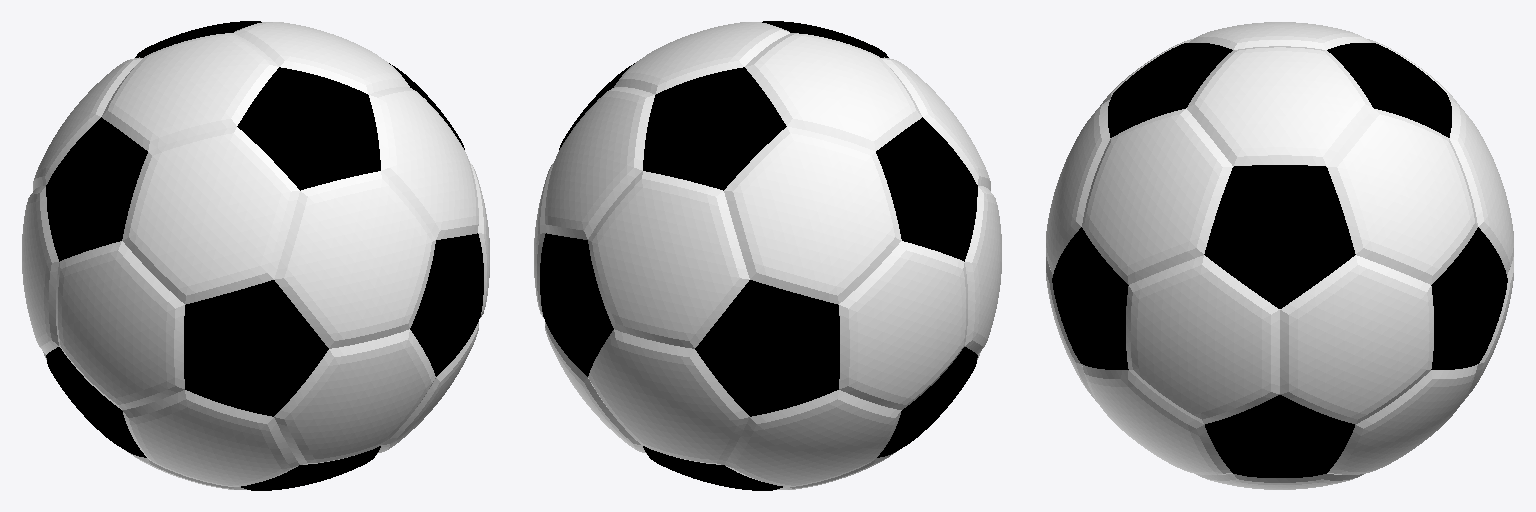
The picture shows the model from 3 angles: view 1: azimuth 30°, elevation 25°; view 2: azimuth 150°, elevation 25°; view 3: azimuth 270°, elevation 25°; orthographic projection.
Visible parts, largest first — view 1: soccer_ball_Solid.003; view 2: soccer_ball_Solid.003; view 3: soccer_ball_Solid.003.
Boxes of the visible parts, x1=… form: soccer_ball_Solid.003: x1=22, y1=21, x2=489, y2=490; soccer_ball_Solid.003: x1=534, y1=21, x2=1001, y2=490; soccer_ball_Solid.003: x1=1046, y1=22, x2=1513, y2=489.
Size of the model in its own units: 0.22 by 0.22 by 0.22.
Materials: 2 (2 with a texture image).